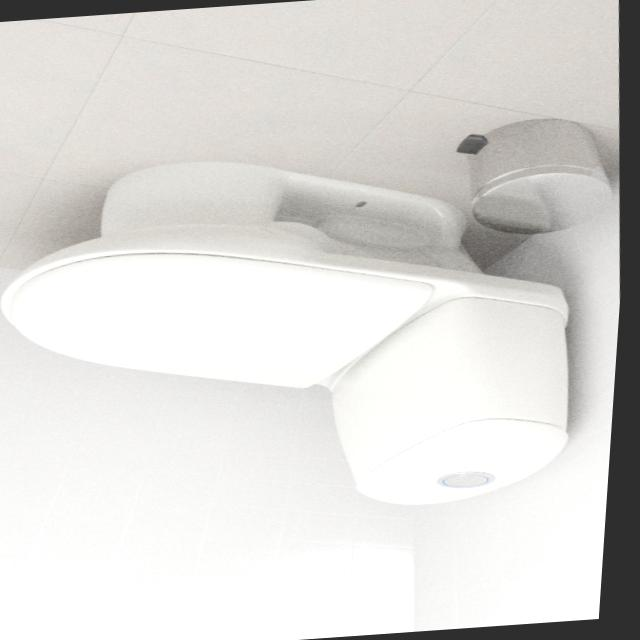toilet: (0, 134, 597, 536)
